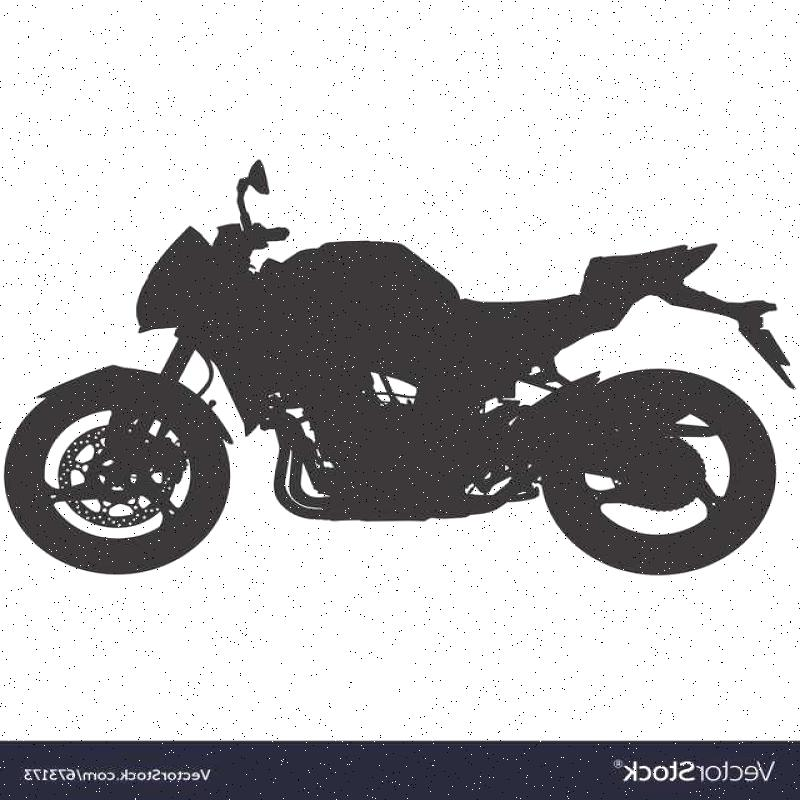bike: (3, 134, 794, 608)
